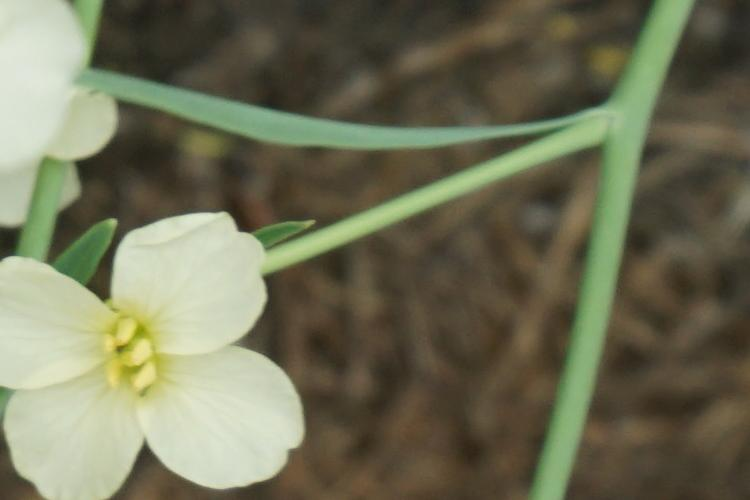white: (5, 233, 323, 489)
